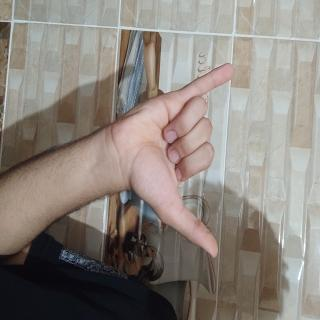YA: (43, 107, 196, 293)
